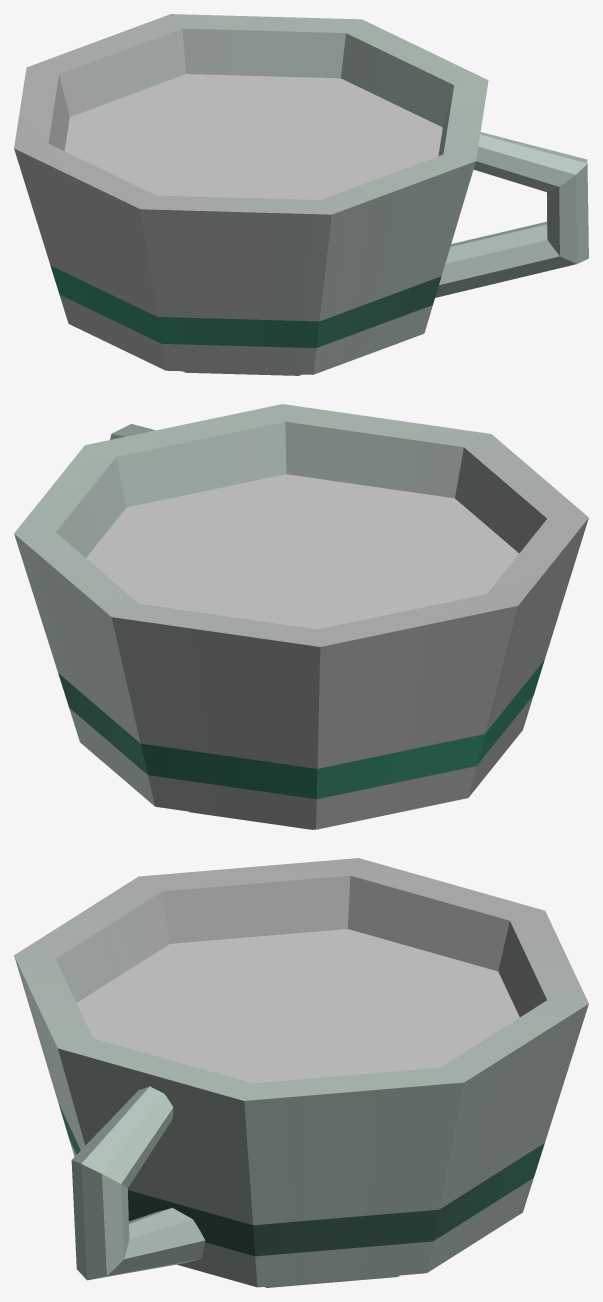
The model's file is Food_Espresso.fbx.
3 renders of one model, top to bottom at view 1: azimuth 30°, elevation 25°; view 2: azimuth 150°, elevation 25°; view 3: azimuth 270°, elevation 25°, orthographic. The views are drawn at different scales.
Parts seen in each view (by area): view 1: Cup.005; view 2: Cup.005; view 3: Cup.005.
Part boxes in pixels (bbox=[...]): Cup.005: bbox=[14, 14, 588, 375]; Cup.005: bbox=[14, 404, 588, 829]; Cup.005: bbox=[14, 858, 588, 1287].
Size of the model in its own units: 11.58 by 4.79 by 10.55.
